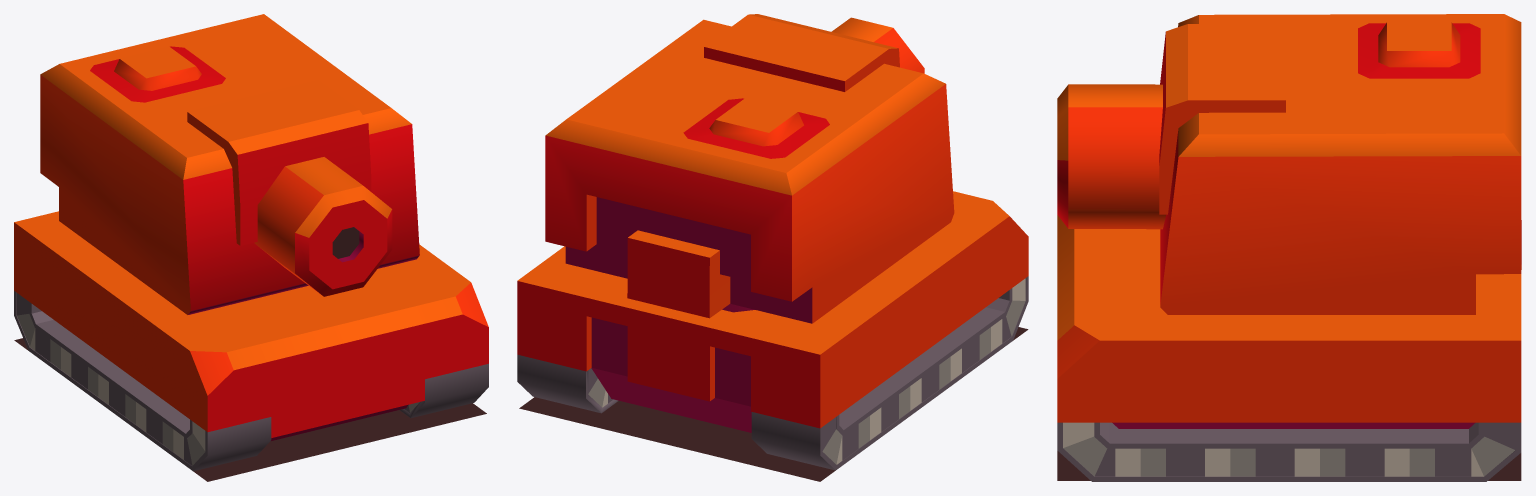
The model's file is MediumTankMesh.OrangeStar.glb.
The picture shows the model from 3 angles, left to right: view 1: azimuth 30°, elevation 25°; view 2: azimuth 150°, elevation 25°; view 3: azimuth 270°, elevation 25°; orthographic projection. The views are drawn at different scales.
Visible parts, largest first — view 1: MediumTankMesh.OrangeStar; view 2: MediumTankMesh.OrangeStar; view 3: MediumTankMesh.OrangeStar.
Part boxes in pixels (x1,y1,x2,y2): MediumTankMesh.OrangeStar: (14, 14, 488, 481); MediumTankMesh.OrangeStar: (517, 14, 1028, 481); MediumTankMesh.OrangeStar: (1057, 14, 1521, 481).
Size of the model in its own units: 1.72 by 1.66 by 2.05.
Materials: 1 (1 with a texture image).
